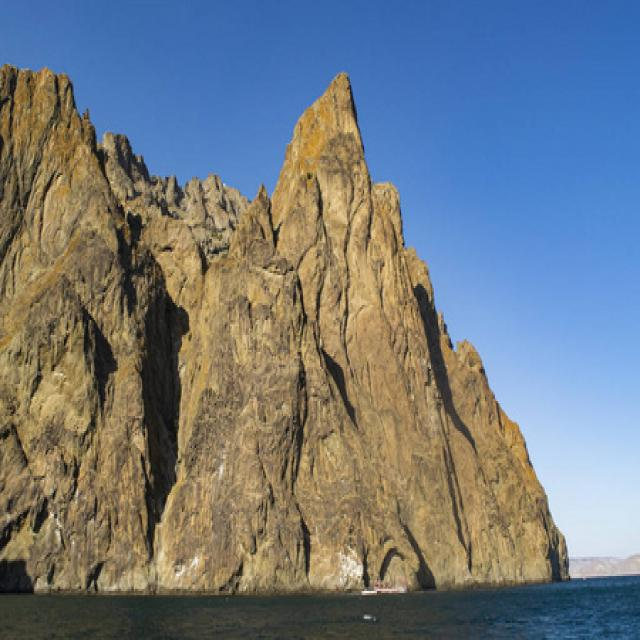reef: (134, 100, 588, 602)
